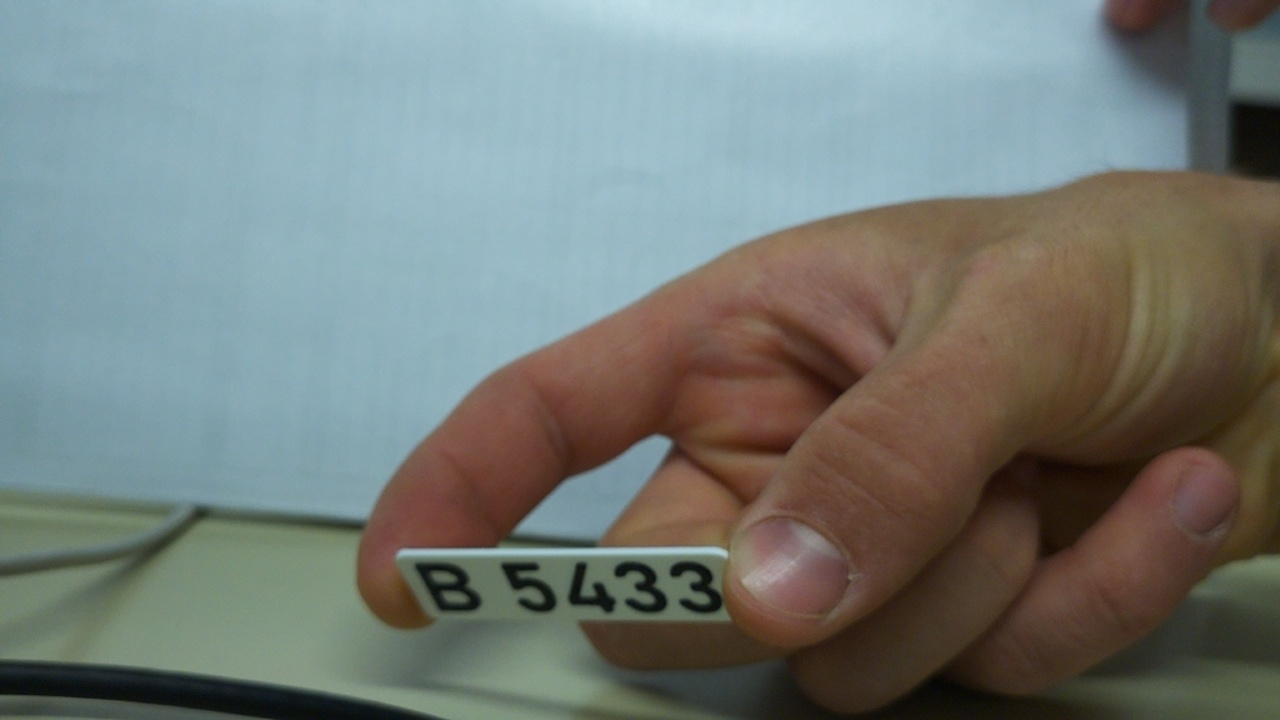license_plate: (392, 544, 734, 626)
